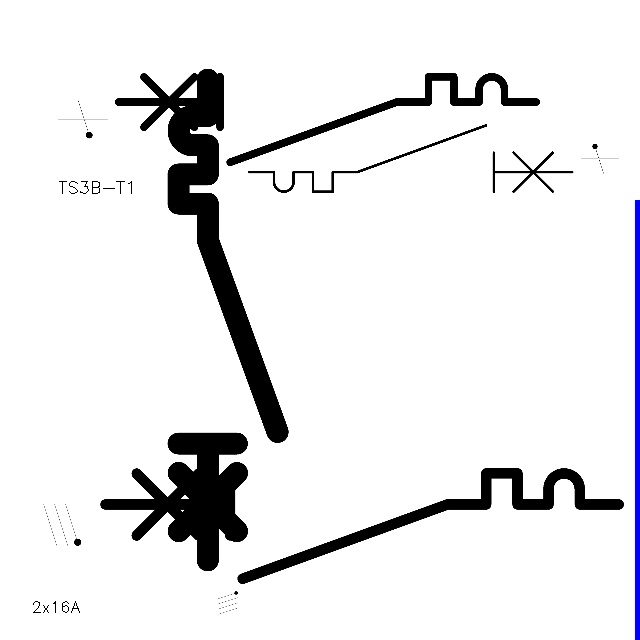interruptor_termomagnetico: (92, 460, 632, 592), (166, 67, 290, 573), (107, 66, 547, 173), (241, 117, 580, 200)
